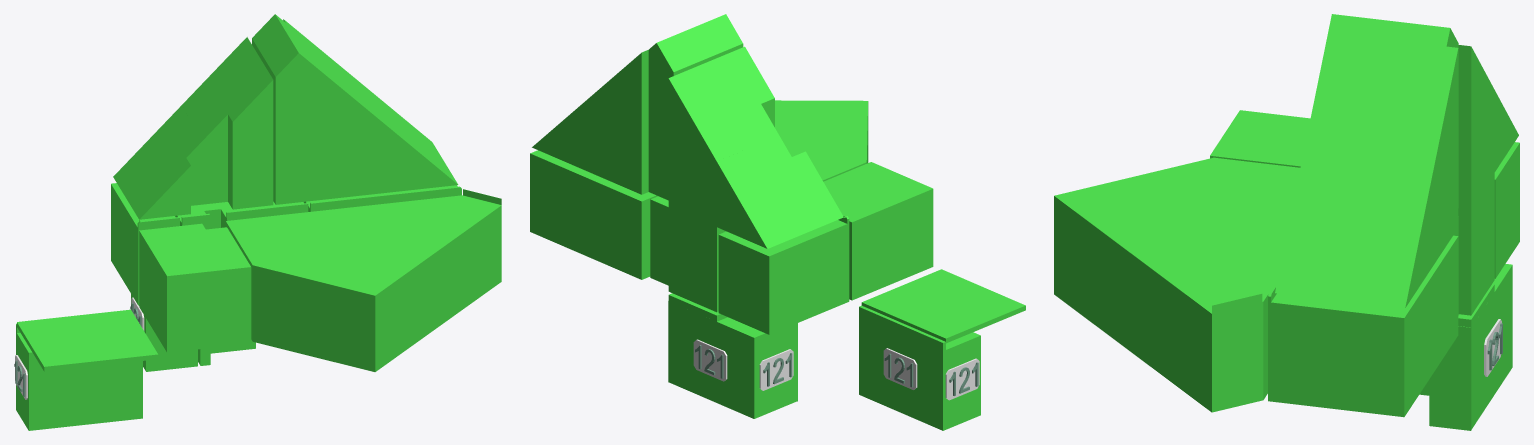
3 renders of one model, left to right at view 1: azimuth 30°, elevation 25°; view 2: azimuth 150°, elevation 25°; view 3: azimuth 270°, elevation 25°, orthographic. The views are drawn at different scales.
Parts seen in each view (by area): view 1: g_5, g_2, g_3, g_10, g_1, g_13, g_9, g_7, g_6, g_4, g_0, g_12; view 2: g_2, g_3, g_9, g_6, g_10, g_1, g_4, g_13, g_5, g_0, g_12, g_11 (+5 smaller); view 3: g_5, g_2, g_6, g_12, g_4, g_10, g_11, g_9, g_0, g_3, g_29.
Part boxes in pixels (x1,y1,x2,y2): g_5: [225, 189, 501, 371]; g_2: [252, 14, 458, 204]; g_3: [113, 52, 273, 221]; g_10: [139, 223, 251, 352]; g_1: [16, 323, 142, 430]; g_13: [17, 309, 158, 371]; g_9: [111, 183, 179, 305]; g_7: [175, 201, 308, 229]; g_6: [303, 185, 461, 211]; g_4: [182, 37, 256, 119]; g_0: [131, 294, 197, 371]; g_12: [198, 340, 255, 365]; g_2: [532, 14, 743, 200]; g_3: [696, 46, 847, 248]; g_9: [718, 214, 849, 334]; g_6: [530, 150, 657, 279]; g_10: [823, 162, 933, 300]; g_1: [859, 305, 980, 430]; g_4: [668, 67, 742, 227]; g_13: [861, 269, 1025, 343]; g_5: [775, 100, 868, 181]; g_0: [728, 322, 797, 418]; g_12: [668, 293, 738, 407]; g_11: [668, 207, 725, 312]; g_5: [1054, 157, 1300, 412]; g_2: [1275, 14, 1458, 308]; g_6: [1268, 235, 1458, 417]; g_12: [1419, 283, 1499, 430]; g_4: [1458, 45, 1494, 208]; g_10: [1210, 110, 1310, 167]; g_11: [1458, 174, 1494, 315]; g_9: [1494, 142, 1519, 278]; g_0: [1493, 264, 1512, 385]; g_3: [1494, 90, 1518, 171]; g_29: [1484, 319, 1501, 376].
Size of the model in its own units: 14.37 by 10.1 by 10.27.
